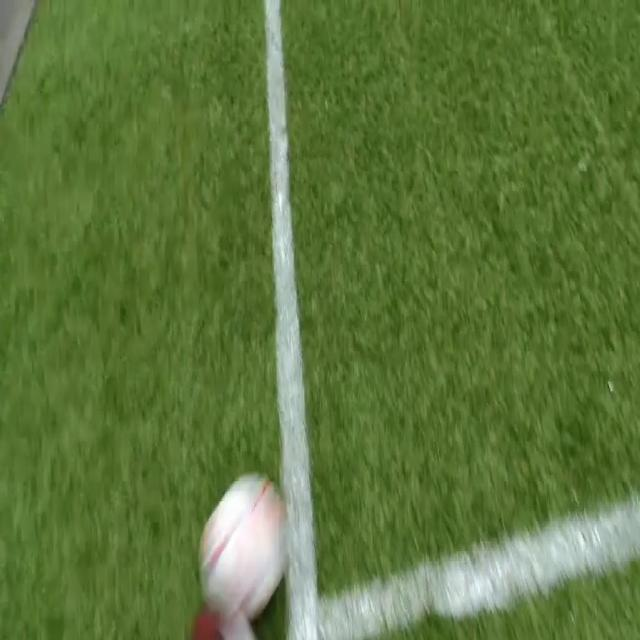ball: (199, 471, 284, 606)
